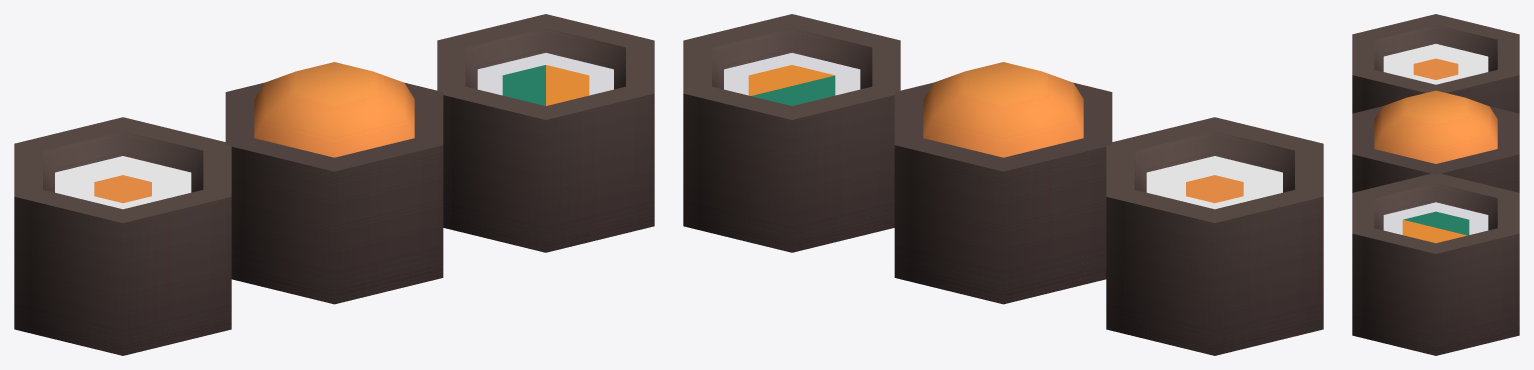
File: uramaki.glb
The picture shows the model from 3 angles, left to right: view 1: azimuth 30°, elevation 25°; view 2: azimuth 150°, elevation 25°; view 3: azimuth 270°, elevation 25°; orthographic projection. The views are drawn at different scales.
Visible parts, largest first — view 1: maki-salmon, maki-roe, maki-vegetable; view 2: maki-salmon, maki-roe, maki-vegetable; view 3: maki-vegetable, maki-roe, maki-salmon.
Boxes of the visible parts, x1,y1,x2,y2 form: maki-salmon: (14,117,231,355); maki-roe: (225,62,443,304); maki-vegetable: (437,14,654,252); maki-salmon: (1106,117,1323,355); maki-roe: (894,62,1112,304); maki-vegetable: (683,14,900,252); maki-vegetable: (1352,173,1519,355); maki-roe: (1352,90,1519,192); maki-salmon: (1352,14,1519,113).
Size of the model in its own units: 0.106 by 0.027 by 0.0312.
1 material, 1 textured.
